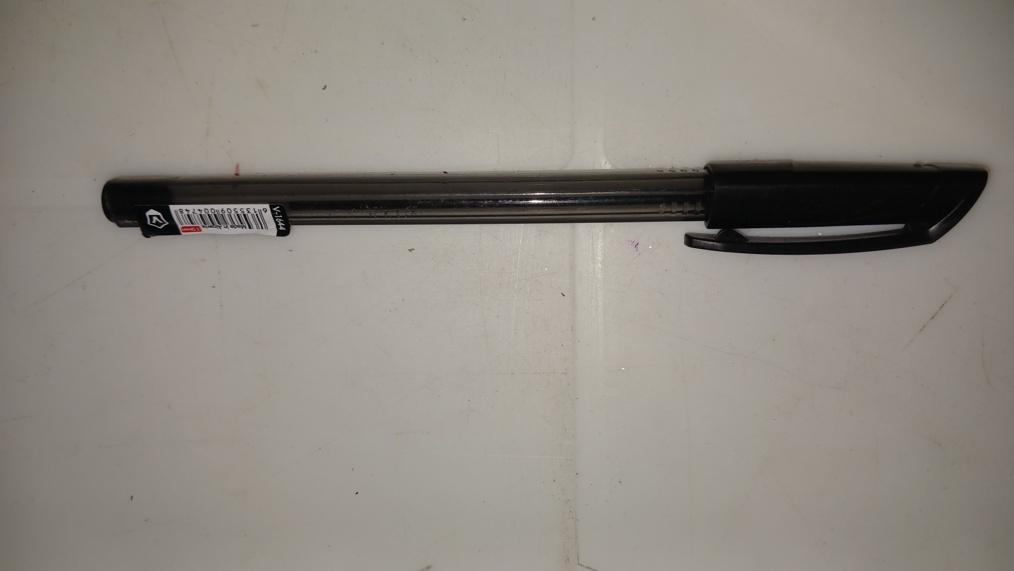pen: (99, 166, 985, 251)
